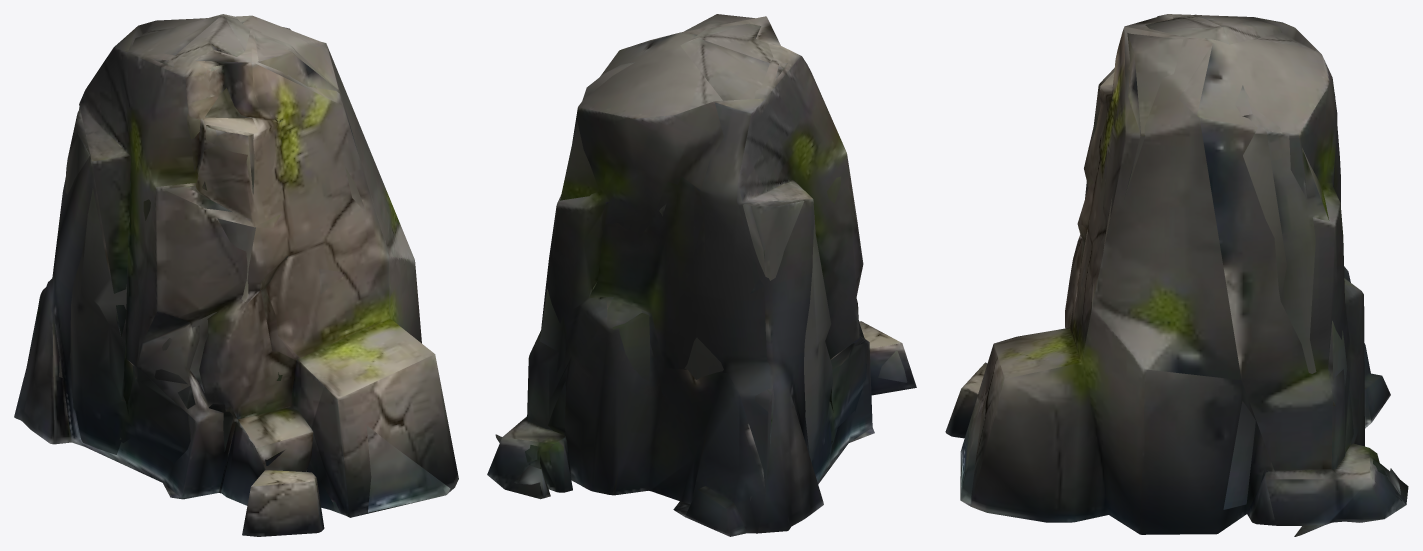
File: Rock03.glb
3 views of the same model, side by side, from view 1: azimuth 30°, elevation 25°; view 2: azimuth 150°, elevation 25°; view 3: azimuth 270°, elevation 25° (orthographic). The views are drawn at different scales.
Visible parts, largest first — view 1: node_0; view 2: node_0; view 3: node_0.
Boxes of the visible parts, x1,y1,x2,y2 form: node_0: (14, 14, 458, 536); node_0: (487, 14, 916, 536); node_0: (945, 14, 1408, 536).
Bounding box in the file's own units: 0.6432 × 0.7954 × 0.7856.
Materials: 1 (1 with a texture image).
